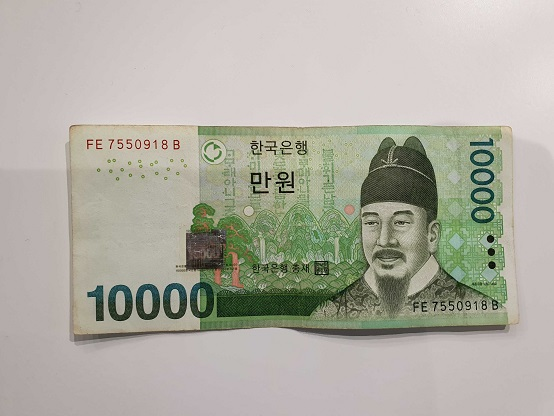10000won: (65, 121, 520, 335)
